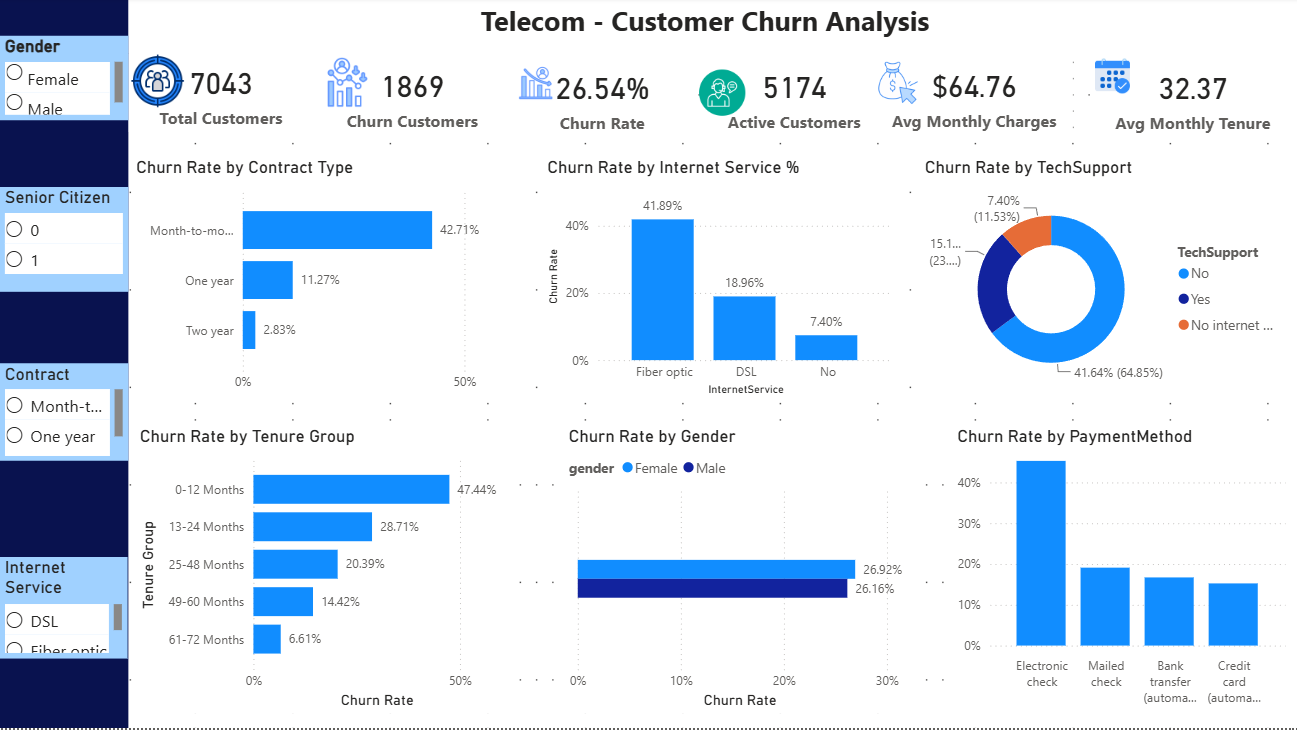

The dashboard page shown, as its layout file describes it:
{"tool":"powerbi","page":{"name":"Page 1","canvas":[1280,720],"ordinal":0},"visuals":[{"type":"textbox","box":[0,0,126.8,720],"z":0},{"type":"textbox","box":[126.8,0,1134.8,55.4],"z":1000},{"type":"card","fields":{"Values":["Measure (2).Total Customers"]},"box":[126.8,56.6,182.2,76.3],"z":2000},{"type":"card","fields":{"Values":["Measure (2).Churn Rate"]},"box":[314.6,59.1,182.2,77.5],"z":3000},{"type":"card","fields":{"Values":["Measure (2).Churn Rate"]},"box":[502.4,61.5,182.2,76.3],"z":4000},{"type":"card","fields":{"Values":["Measure (2).Average Monthly Charges"]},"box":[862.8,55.4,193.2,83.7],"z":5000},{"type":"card","fields":{"Values":["Measure (2).Active Customers"]},"box":[690.2,60.3,183.4,76.3],"z":6000},{"type":"card","fields":{"Values":["Measure (2).Average Monthly Tenure"]},"box":[1078.2,56.6,193.2,86.2],"z":7000},{"type":"listSlicer","title":"Gender","fields":{"Values":["Churn analysis.gender"]},"box":[0,37.6,126.1,82.8],"z":8000},{"type":"listSlicer","title":"Senior Citizen","fields":{"Values":["Churn analysis.SeniorCitizen"]},"box":[0,187.6,126.5,103.3],"z":9000},{"type":"barChart","title":"Churn Rate by Contract Type","fields":{"Category":["Churn analysis.Contract"],"Y":["Measure (2).Churn Rate"]},"box":[129.2,157.5,388.9,240],"z":10000},{"type":"clusteredBarChart","fields":{"Category":["Churn analysis.Tenure Group"],"Y":["Measure (2).Churn Rate"]},"box":[132.9,422.2,377.8,283.1],"z":11000},{"type":"columnChart","title":"Churn Rate by Internet Service %","fields":{"Category":["Churn analysis.InternetService"],"Y":["Measure (2).Churn Rate"]},"box":[534.2,157.5,350.8,240],"z":12000},{"type":"image","box":[510.8,61.5,33.2,46.8],"z":13000},{"type":"image","box":[308.9,59.1,66.5,49.2],"z":14000},{"type":"image","box":[129.2,56.6,51.7,51.7],"z":15000},{"type":"image","box":[684.3,71.4,54.2,45.5],"z":16000},{"type":"image","box":[862.8,56.6,43.1,56.6],"z":17000},{"type":"image","box":[1078.2,38.2,34.5,78.8],"z":18000},{"type":"clusteredBarChart","title":"Churn  Rate by Gender","fields":{"Series":["Churn analysis.gender"],"Y":["Measure (2).Churn Rate"]},"box":[555,422,351,283],"z":20000},{"type":"clusteredColumnChart","fields":{"Category":["Churn analysis.PaymentMethod"],"Y":["Measure (2).Churn Rate"]},"box":[938.2,421.8,333.1,283.6],"z":21000},{"type":"listSlicer","fields":{"Values":["Churn analysis.Contract"]},"box":[0,360.7,126.5,96],"z":21001},{"type":"listSlicer","fields":{"Values":["Churn analysis.InternetService"]},"box":[0,551.4,125.5,99.7],"z":21002},{"type":"donutChart","fields":{"Category":["Churn analysis.TechSupport"],"Y":["Measure (2).Churn Rate"]},"box":[905.8,157.5,365.5,240],"z":21003}]}

Visuals, with their boxes in screenshot pixels (x1, y1, x2, y2), scaled from the page's 1280x720 canvas onto the 1297x730 screenshot:
textbox: box(0, 0, 128, 729)
textbox: box(128, 0, 1278, 56)
card - Measure (2).Total Customers: box(128, 57, 313, 135)
card - Measure (2).Churn Rate: box(319, 60, 503, 138)
card - Measure (2).Churn Rate: box(509, 62, 694, 140)
card - Measure (2).Average Monthly Charges: box(874, 56, 1070, 141)
card - Measure (2).Active Customers: box(699, 61, 885, 138)
card - Measure (2).Average Monthly Tenure: box(1093, 57, 1288, 145)
"Gender" listSlicer: box(0, 38, 128, 122)
"Senior Citizen" listSlicer: box(0, 190, 128, 295)
"Churn Rate by Contract Type" barChart: box(131, 160, 525, 403)
clusteredBarChart - Churn analysis.Tenure Group x Measure (2).Churn Rate: box(135, 428, 517, 715)
"Churn Rate by Internet Service %" columnChart: box(541, 160, 897, 403)
image: box(518, 62, 551, 110)
image: box(313, 60, 380, 110)
image: box(131, 57, 183, 110)
image: box(693, 72, 748, 119)
image: box(874, 57, 918, 115)
image: box(1093, 39, 1127, 119)
"Churn  Rate by Gender" clusteredBarChart: box(562, 428, 918, 715)
clusteredColumnChart - Churn analysis.PaymentMethod x Measure (2).Churn Rate: box(951, 428, 1288, 715)
listSlicer - Churn analysis.Contract: box(0, 366, 128, 463)
listSlicer - Churn analysis.InternetService: box(0, 559, 127, 660)
donutChart - Churn analysis.TechSupport x Measure (2).Churn Rate: box(918, 160, 1288, 403)
